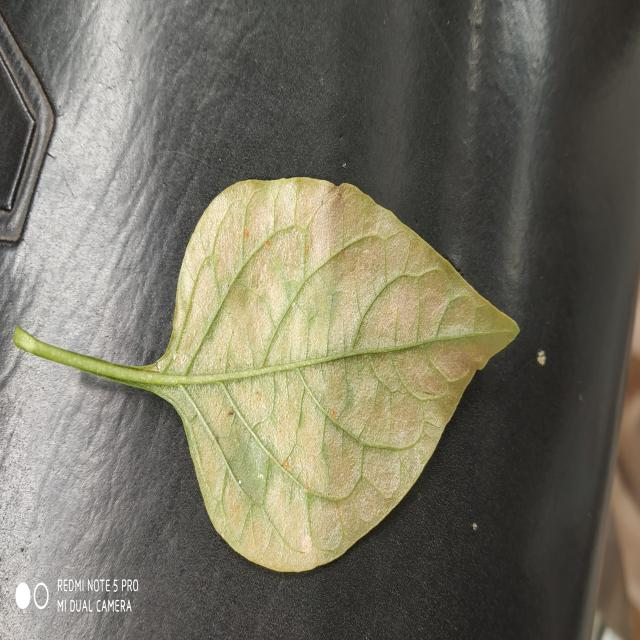ganike: (14, 178, 519, 571)
